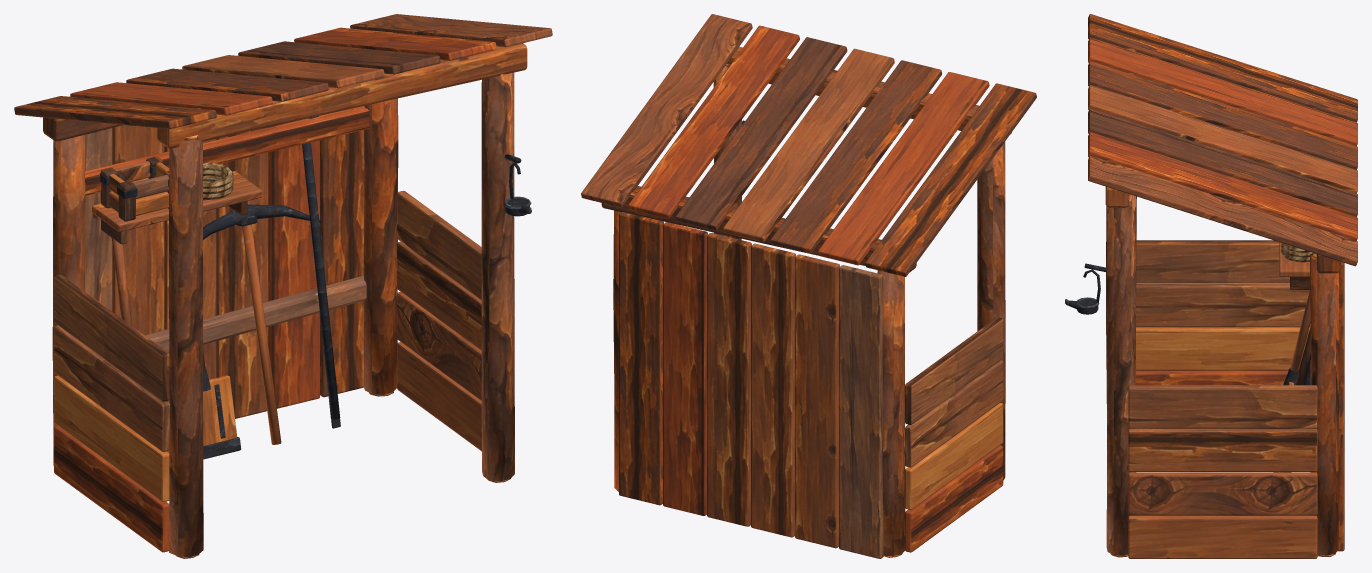
File: mp_tool_shed.glb
3 views of the same model, side by side, from view 1: azimuth 30°, elevation 25°; view 2: azimuth 150°, elevation 25°; view 3: azimuth 270°, elevation 25° (orthographic). The views are drawn at different scales.
Visible parts, largest first — view 1: model; view 2: model; view 3: model.
Boxes of the visible parts, x1,y1,x2,y2 form: model: (14, 14, 552, 558); model: (581, 14, 1036, 558); model: (1065, 14, 1357, 558).
Size of the model in its own units: 1.6 by 1.81 by 1.22.
Materials: 21 (20 with a texture image).
